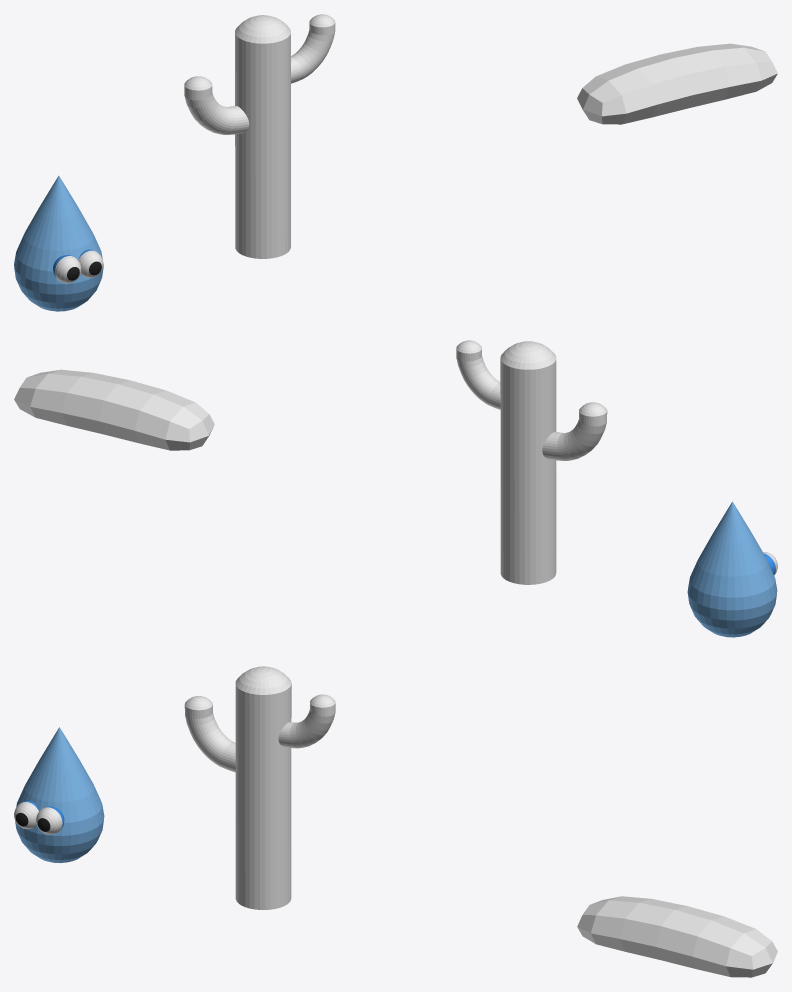
File: Amal.fbx
3 renders of one model, top to bottom at view 1: azimuth 30°, elevation 25°; view 2: azimuth 150°, elevation 25°; view 3: azimuth 330°, elevation 25°, orthographic.
Visible parts, largest first — view 1: Sphere.002, Cube, Sphere; view 2: Sphere.002, Cube, Sphere; view 3: Sphere.002, Cube, Sphere.
Part boxes in pixels (x1,y1,x2,y2): Sphere.002: [184, 14, 335, 258]; Cube: [577, 43, 777, 124]; Sphere: [14, 175, 103, 311]; Sphere.002: [456, 340, 607, 584]; Cube: [14, 369, 214, 450]; Sphere: [687, 501, 777, 637]; Sphere.002: [184, 666, 335, 909]; Cube: [577, 896, 777, 977]; Sphere: [14, 727, 104, 863].
Bounding box in the file's own units: 1801 × 548 × 206.
